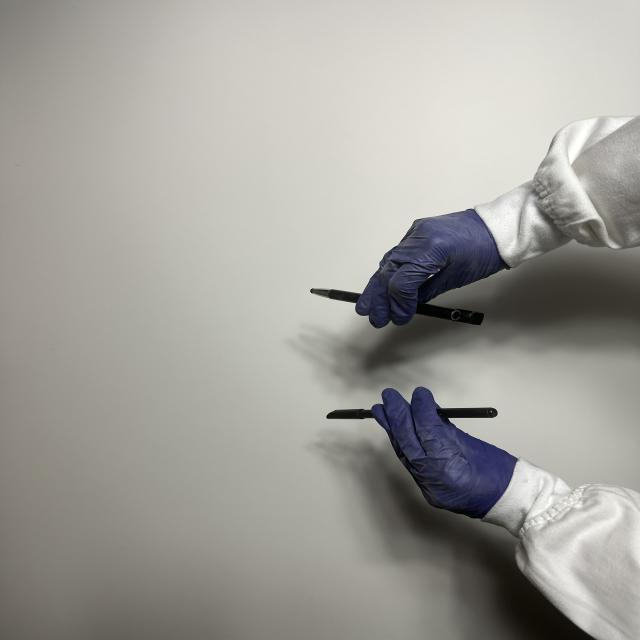gloves_contaminated: (372, 388, 516, 518), (356, 210, 507, 328)
